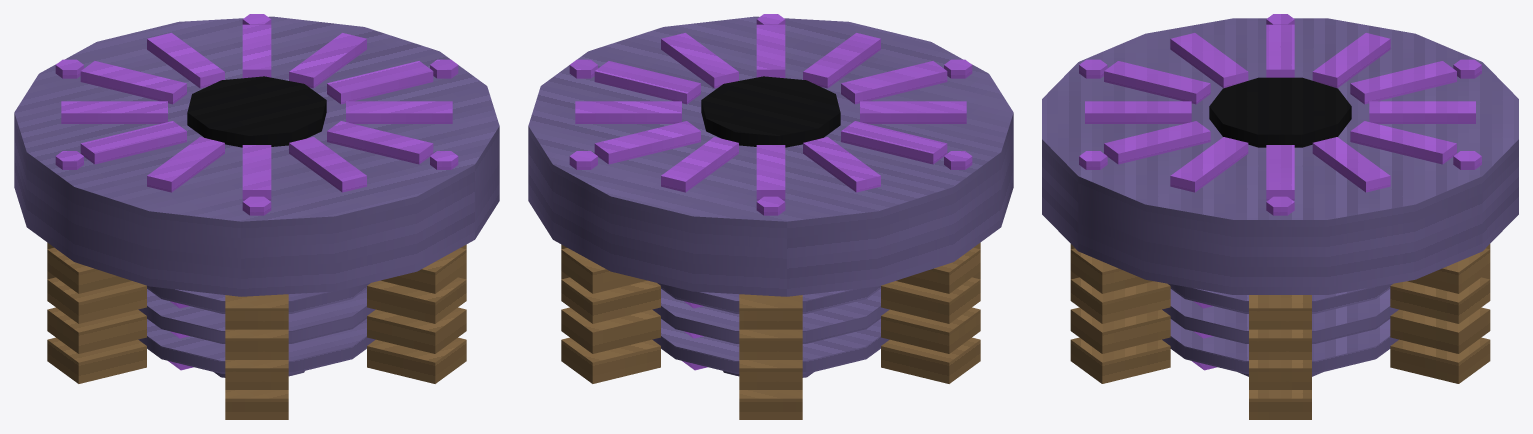
Rendered from embreagem_n5.glb.
3 views of the same model, side by side, from view 1: azimuth 30°, elevation 25°; view 2: azimuth 150°, elevation 25°; view 3: azimuth 270°, elevation 25° (orthographic).
Parts seen in each view (by area): view 1: embreagem_n5; view 2: embreagem_n5; view 3: embreagem_n5.
Part boxes in pixels (<box>): embreagem_n5: <box>14,14,499,419</box>; embreagem_n5: <box>528,14,1013,419</box>; embreagem_n5: <box>1042,14,1518,419</box>.
Bounding box in the file's own units: 0.2013 × 0.117 × 0.2013.
Materials: 2 (2 with a texture image).
